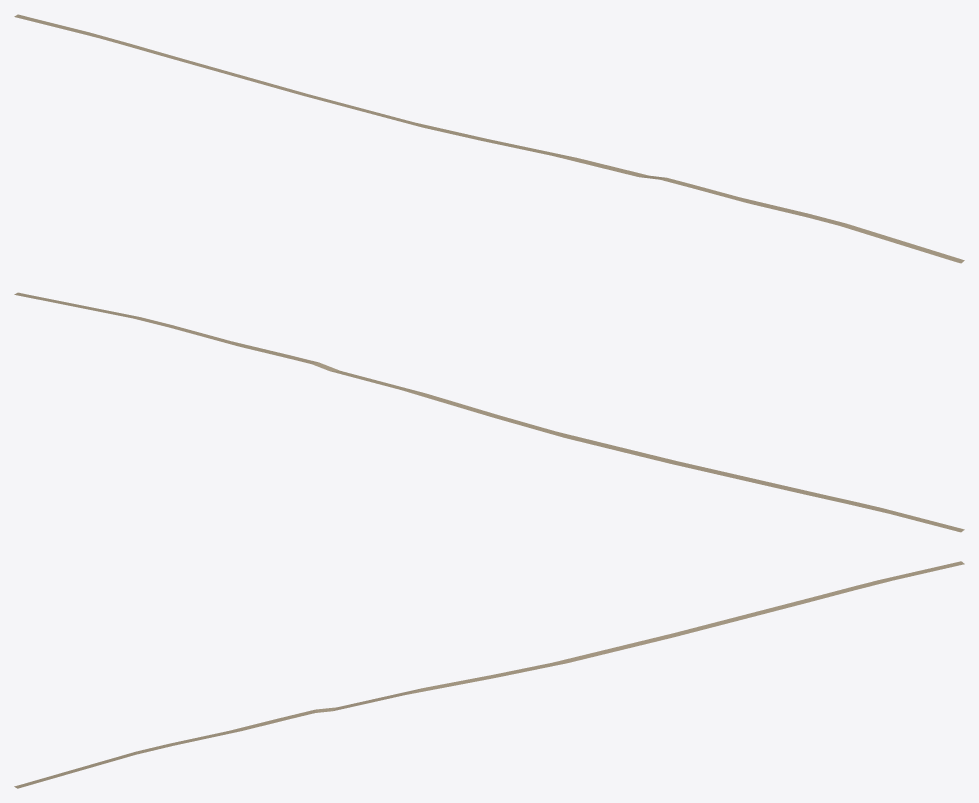
Rendered from farm_-2_12_track.glb.
3 views of the same model, one above another, from view 1: azimuth 30°, elevation 25°; view 2: azimuth 210°, elevation 25°; view 3: azimuth 270°, elevation 25° (orthographic). The views are drawn at different scales.
Visible parts, largest first — view 1: geometry_0; view 2: geometry_0; view 3: geometry_0.
Boxes of the visible parts, x1=… form: geometry_0: x1=14, y1=14, x2=964, y2=263; geometry_0: x1=14, y1=292, x2=964, y2=532; geometry_0: x1=14, y1=561, x2=964, y2=788.
Bounding box in the file's own units: 236 × 4.52 × 424.
